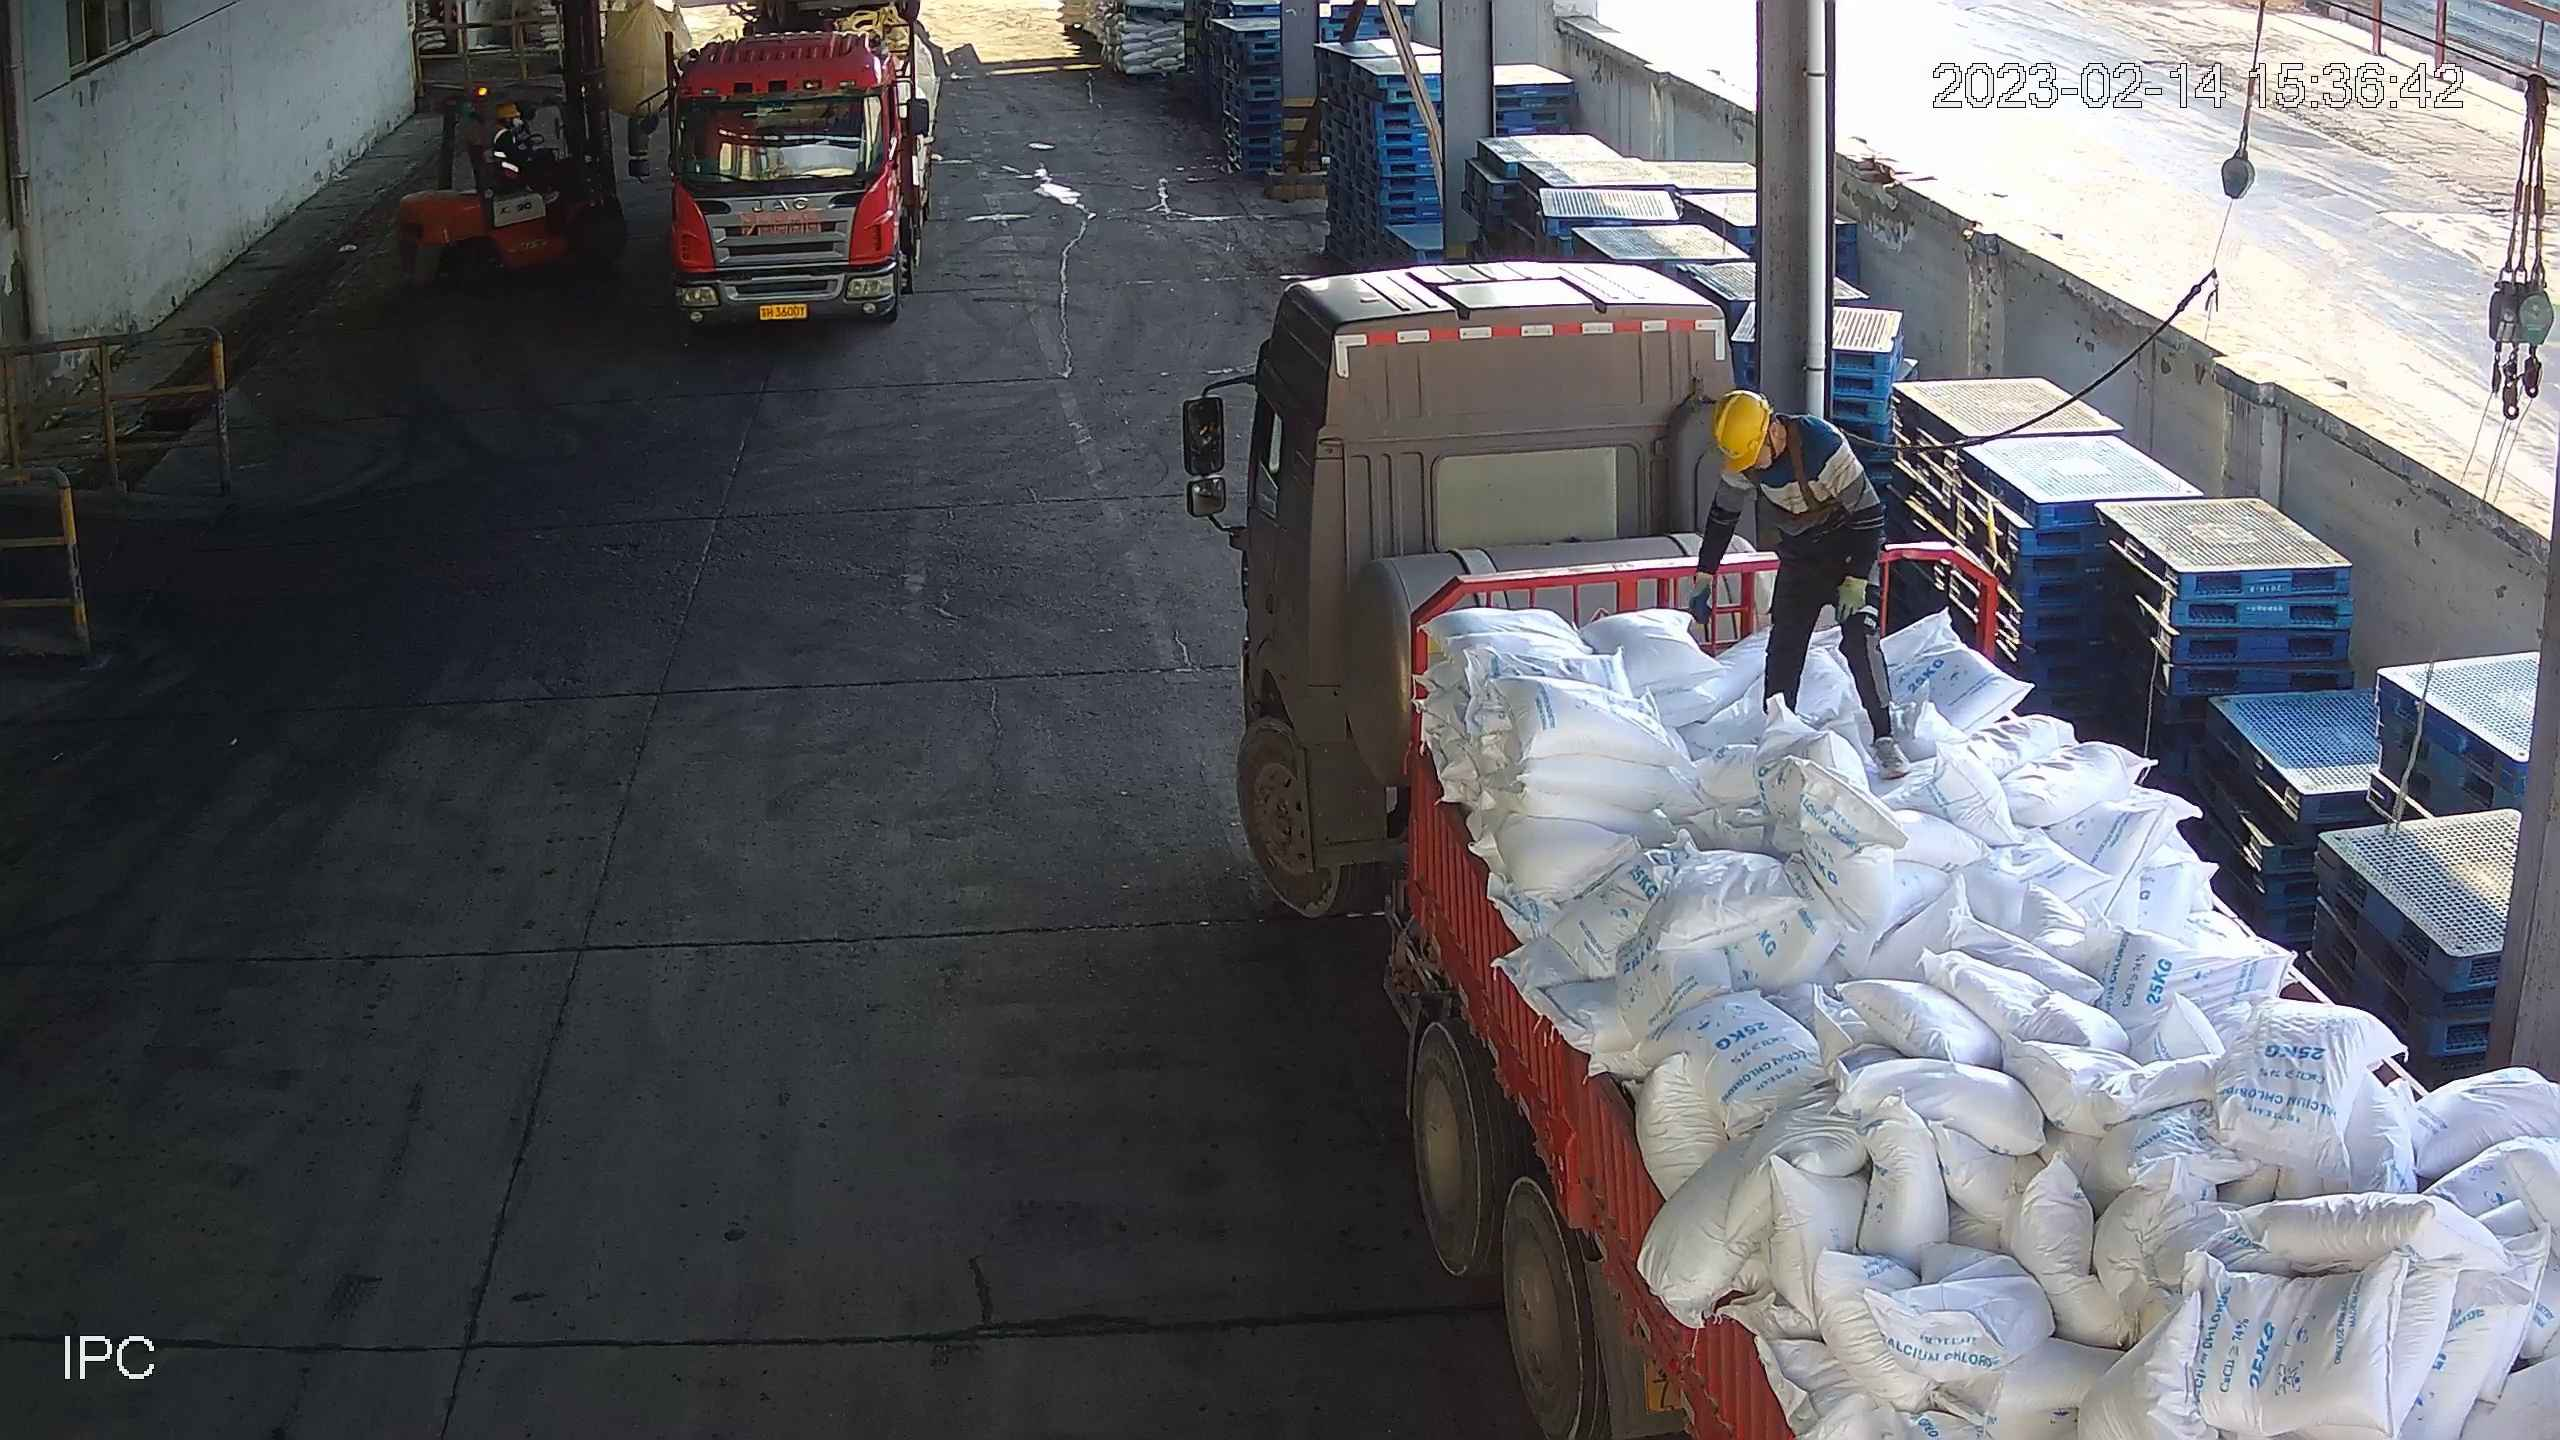belt: (1773, 423, 1849, 530)
head: (1699, 395, 1881, 525)
helmet: (1703, 388, 1772, 469)
people: (1698, 379, 1912, 767)
truck: (1192, 269, 2560, 1440), (642, 1, 938, 329)
